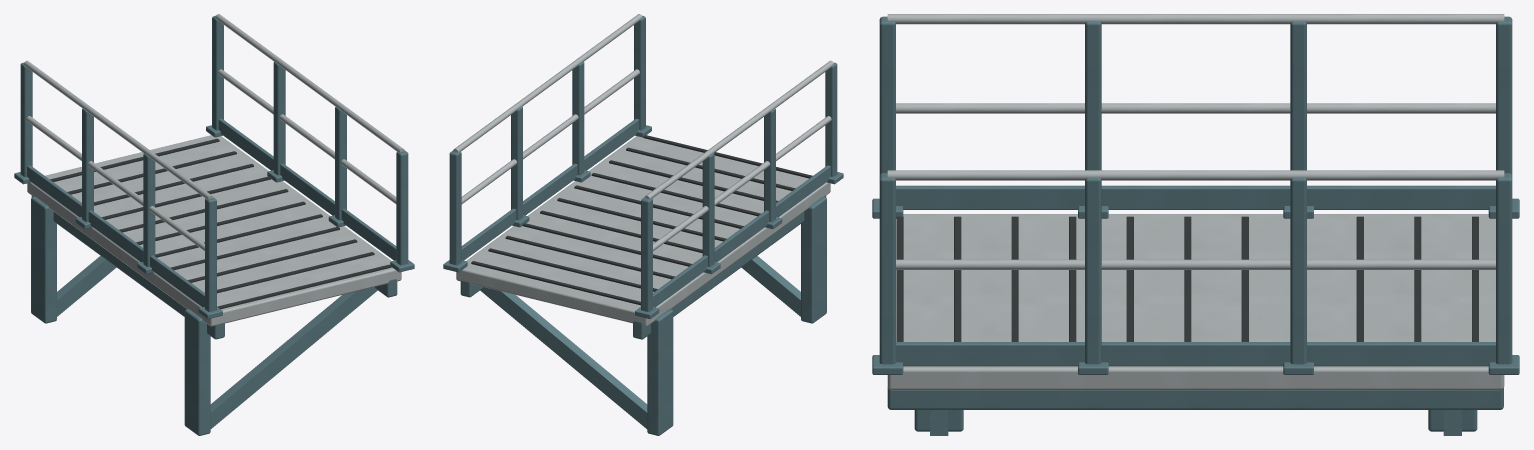
Rendered from gorgehold-survivor-gallery-and-operations-cantilever-g-9bdf427f__32875.glb.
The picture shows the model from 3 angles, left to right: view 1: azimuth 30°, elevation 25°; view 2: azimuth 150°, elevation 25°; view 3: azimuth 270°, elevation 25°; orthographic projection. The views are drawn at different scales.
Parts seen in each view (by area): view 1: cantilever-gorge-walkway; view 2: cantilever-gorge-walkway; view 3: cantilever-gorge-walkway.
Boxes of the visible parts, <box> form: cantilever-gorge-walkway: <box>14,14,414,435</box>; cantilever-gorge-walkway: <box>443,14,843,435</box>; cantilever-gorge-walkway: <box>872,14,1519,435</box>.
Size of the model in its own units: 1.95 by 2.21 by 3.15.
3 materials, 2 textured.
